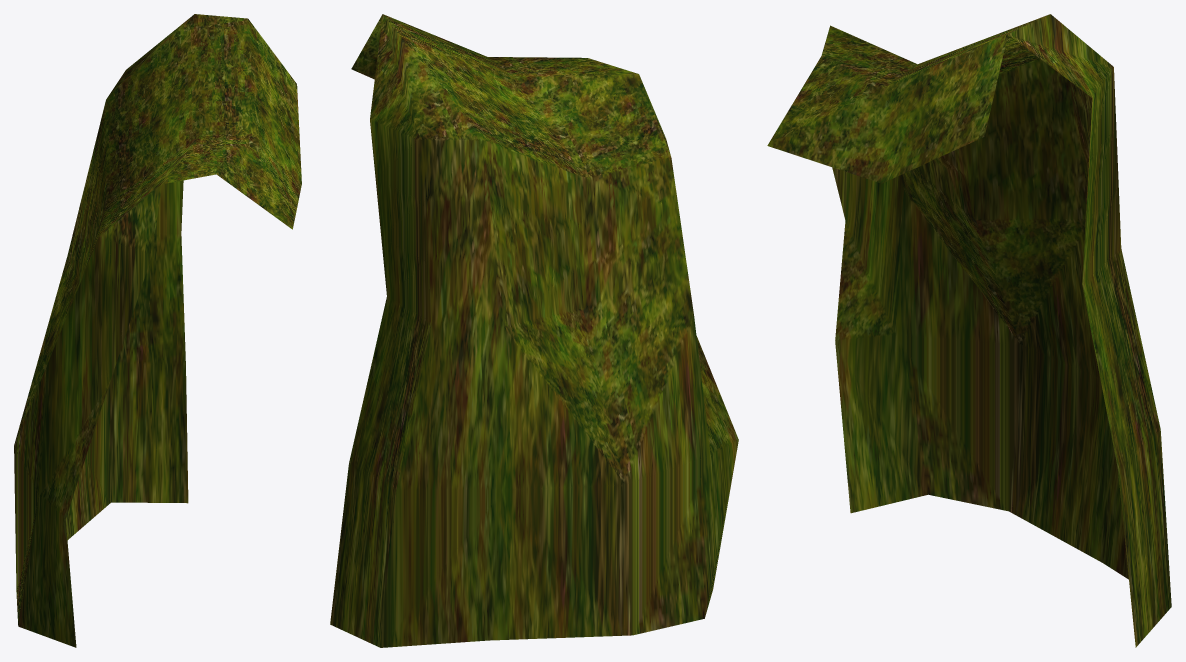
Rendered from TROLLHOLE02_RM_PSURF190.fbx.
3 renders of one model, left to right at view 1: azimuth 30°, elevation 25°; view 2: azimuth 150°, elevation 25°; view 3: azimuth 270°, elevation 25°, orthographic. The views are drawn at different scales.
Visible parts, largest first — view 1: TROLLHOLE02_RM_PSURF190; view 2: TROLLHOLE02_RM_PSURF190; view 3: TROLLHOLE02_RM_PSURF190.
Part boxes in pixels (x1,y1,x2,y2): TROLLHOLE02_RM_PSURF190: (14, 14, 301, 647); TROLLHOLE02_RM_PSURF190: (330, 14, 738, 647); TROLLHOLE02_RM_PSURF190: (767, 14, 1171, 647).
Size of the model in its own units: 50128 by 82744 by 49170.
1 material, 1 textured.
